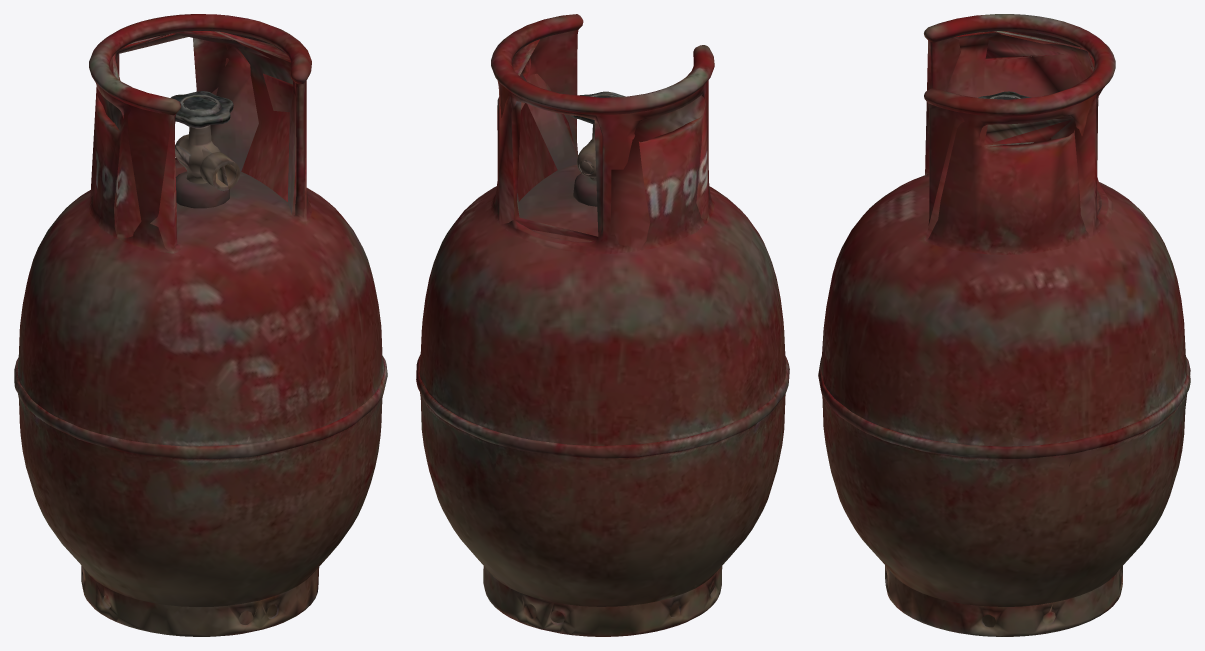
File: small_lpg_tank.glb
3 renders of one model, left to right at view 1: azimuth 30°, elevation 25°; view 2: azimuth 150°, elevation 25°; view 3: azimuth 270°, elevation 25°, orthographic.
Visible parts, largest first — view 1: small_lpg_tank, small_lpg_tank_lo; view 2: small_lpg_tank, small_lpg_tank_lo; view 3: small_lpg_tank, small_lpg_tank_lo.
Part boxes in pixels (box(x1,y1,x2,y2)): small_lpg_tank: box(14, 14, 387, 636); small_lpg_tank_lo: box(18, 31, 374, 624); small_lpg_tank: box(416, 14, 789, 636); small_lpg_tank_lo: box(487, 39, 772, 622); small_lpg_tank: box(818, 14, 1190, 636); small_lpg_tank_lo: box(864, 31, 1187, 627).
Size of the model in its own units: 0.4099 by 0.642 by 0.4092.
1 material, 1 textured.
